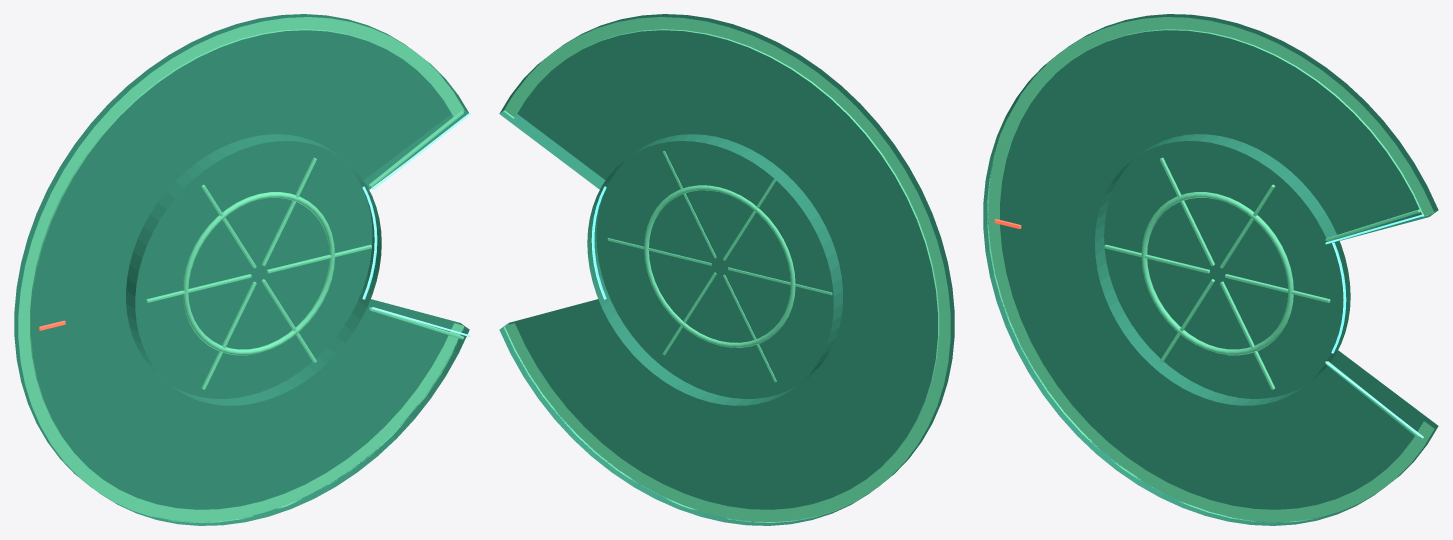
The model's file is bio-panel-fun7-high.glb.
3 renders of one model, left to right at view 1: azimuth 30°, elevation 25°; view 2: azimuth 150°, elevation 25°; view 3: azimuth 330°, elevation 25°, orthographic.
Parts seen in each view (by area): view 1: RENDER_PANEL_SHELL, RENDER_PANEL_FRAME, RENDER_PANEL_SIGNAL; view 2: RENDER_PANEL_SHELL, RENDER_PANEL_FRAME; view 3: RENDER_PANEL_SHELL, RENDER_PANEL_FRAME, RENDER_PANEL_SIGNAL.
Boxes of the visible parts, x1,y1,x2,y2 form: RENDER_PANEL_SHELL: (14,14,469,525); RENDER_PANEL_FRAME: (18,17,465,522); RENDER_PANEL_SIGNAL: (362,113,470,336); RENDER_PANEL_SHELL: (499,14,954,525); RENDER_PANEL_FRAME: (503,17,950,522); RENDER_PANEL_SHELL: (983,14,1438,525); RENDER_PANEL_FRAME: (987,17,1434,522); RENDER_PANEL_SIGNAL: (1325,214,1423,438).
Size of what is drawn, in the model's own units: 38.9 by 40.96 by 1.95.
